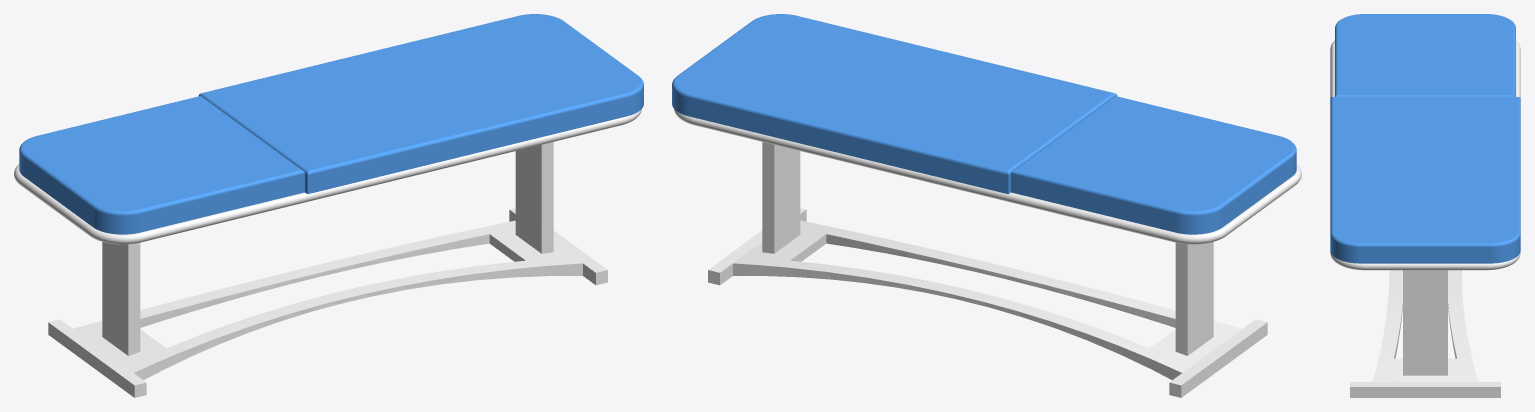
The picture shows the model from 3 angles, left to right: view 1: azimuth 30°, elevation 25°; view 2: azimuth 150°, elevation 25°; view 3: azimuth 270°, elevation 25°; orthographic projection. The views are drawn at different scales.
Parts seen in each view (by area): view 1: node1, node0; view 2: node1, node0; view 3: node1, node0.
Boxes of the visible parts, x1,y1,x2,y2 form: node1: (19, 14, 643, 234); node0: (14, 109, 641, 397); node1: (672, 14, 1296, 234); node0: (674, 109, 1301, 397); node1: (1330, 14, 1520, 263); node0: (1330, 40, 1520, 397).
Bounding box in the file's own units: 1.83 × 0.63 × 0.62.
